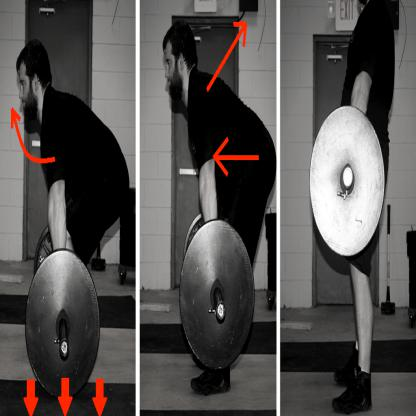Barbell: (307, 103, 387, 266), (178, 216, 258, 376), (22, 248, 103, 402)
